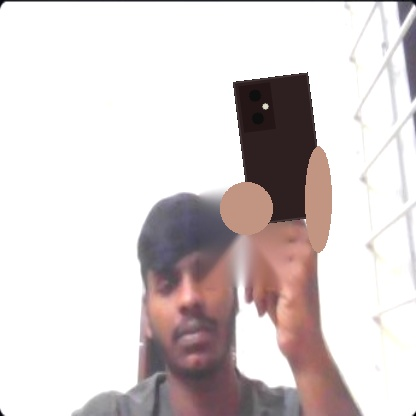cell_phone: (233, 72, 326, 225)
